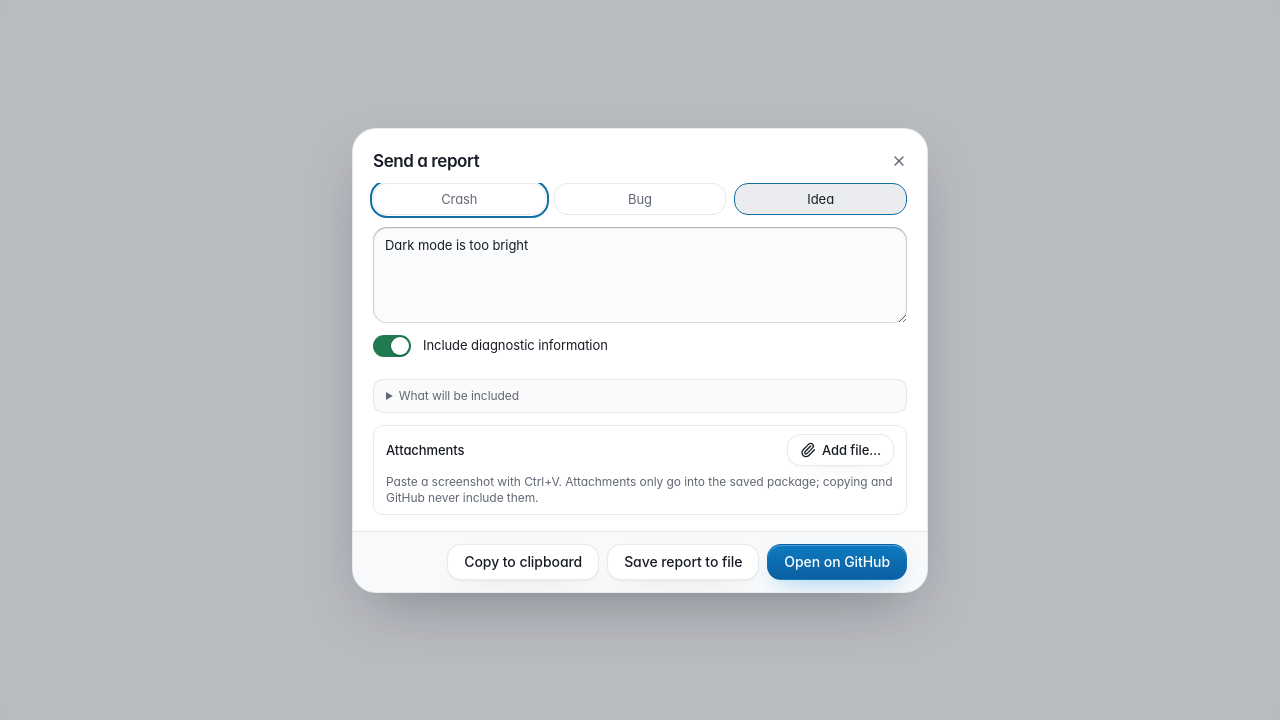
report dialog › says when diagnostics could not be loaded and loads them again on retry
The width and height of the screenshot is (1280, 720).
What coordinates should you click on to do the following:
click the heading "What will be included"
I would click on:
 (459, 395)
Its box is [399,388,519,402].
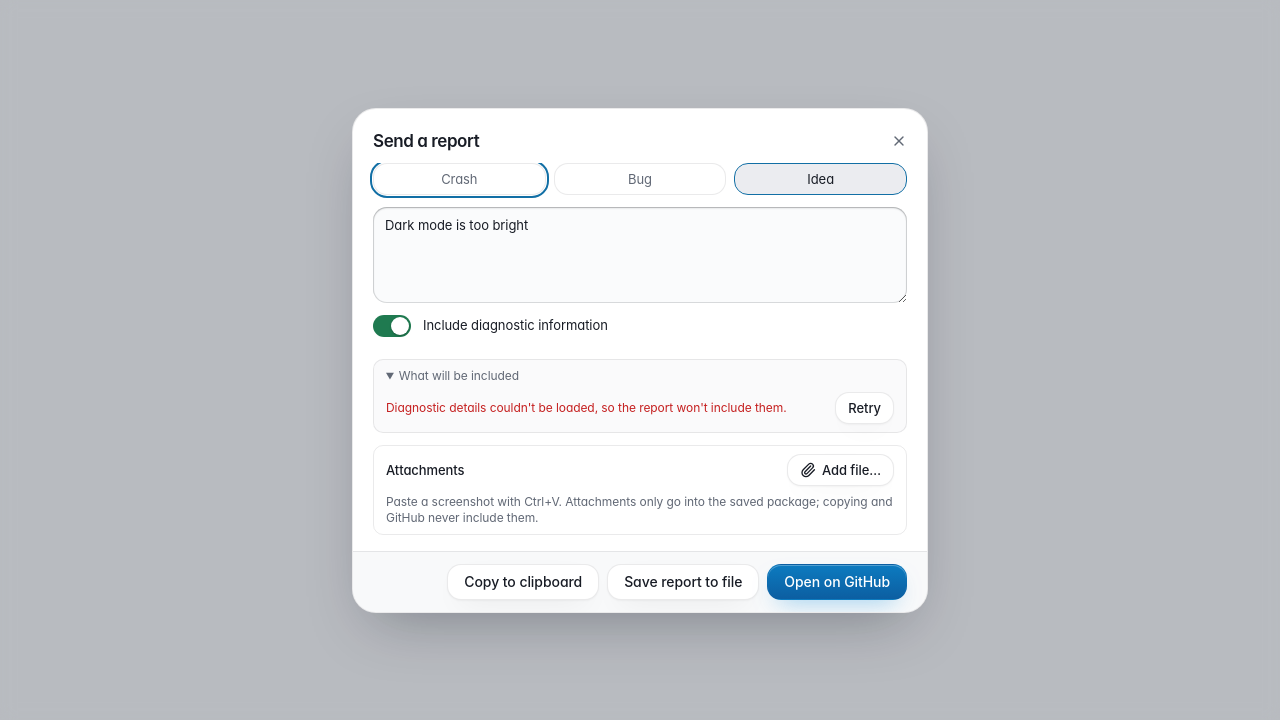
Expected: the message shows "Diagnostic details couldn't be loaded", [386,400,786,414]
What coordinates should you click on to do the following:
click the button "Retry"
I would click on:
 (865, 408)
Its box is [835,392,894,424].
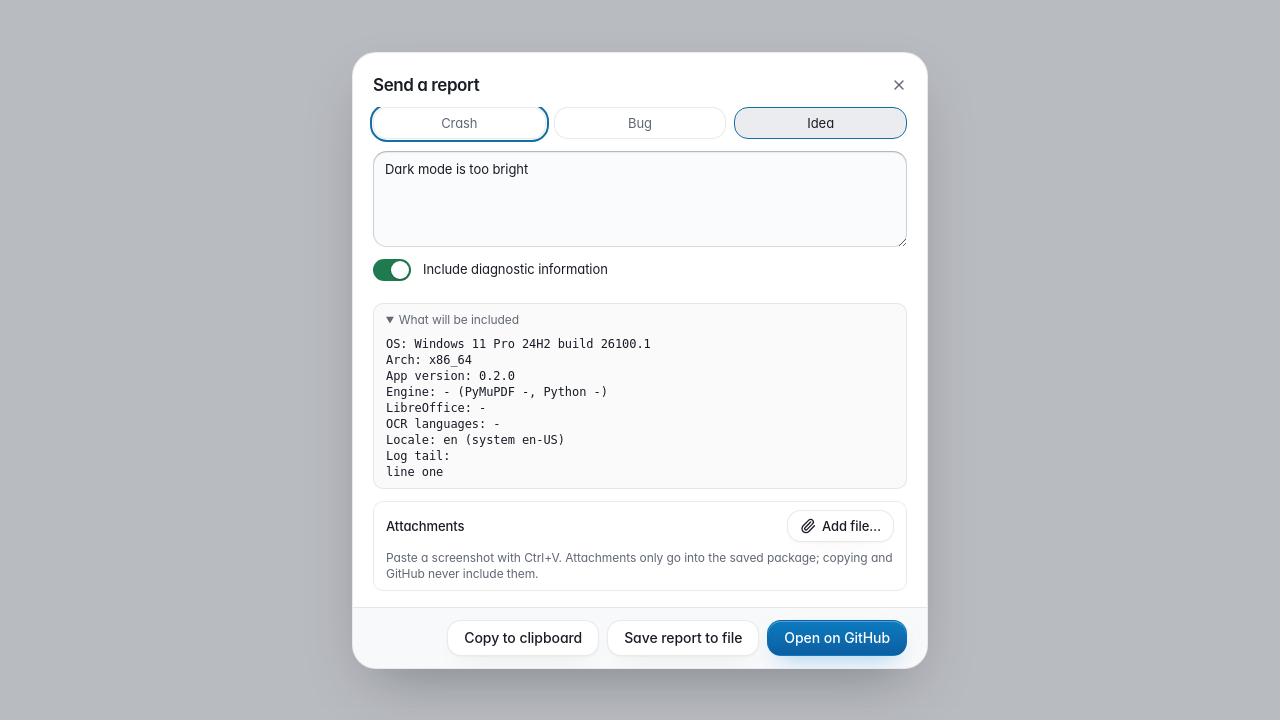
Expected: the text "line one" is shown, [386,336,651,478]
